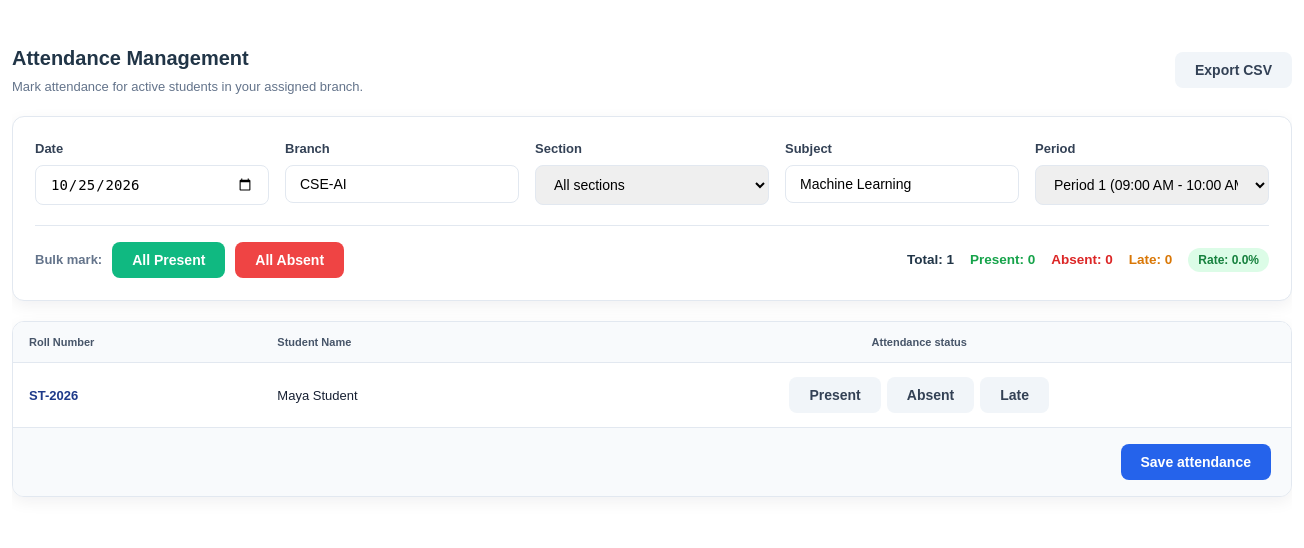
Test: attendance workflows › lets faculty mark and save attendance for the fetched roster
The image size is (1304, 548).
Check: the text "Maya Student" is shown, box [261, 363, 547, 427]
Check: the field labelled "Branch" holds "CSE-AI", box [285, 165, 519, 203]
Click the button "Present".
click(835, 395)  # box [789, 377, 881, 413]
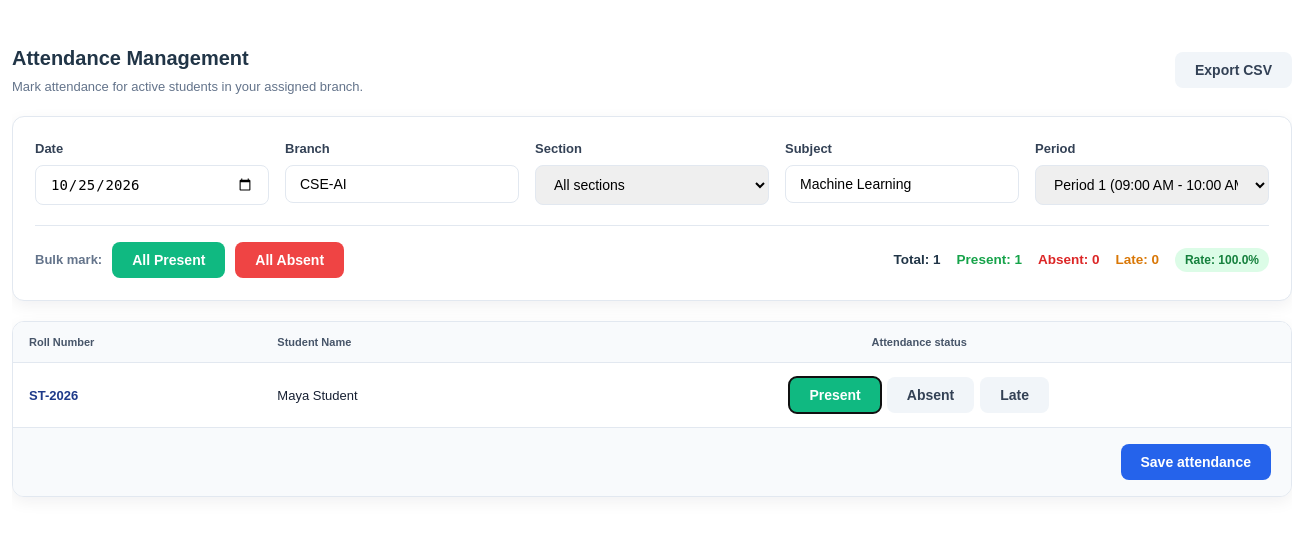
Click the button "Save attendance".
click(1196, 462)  # box [1120, 444, 1271, 480]
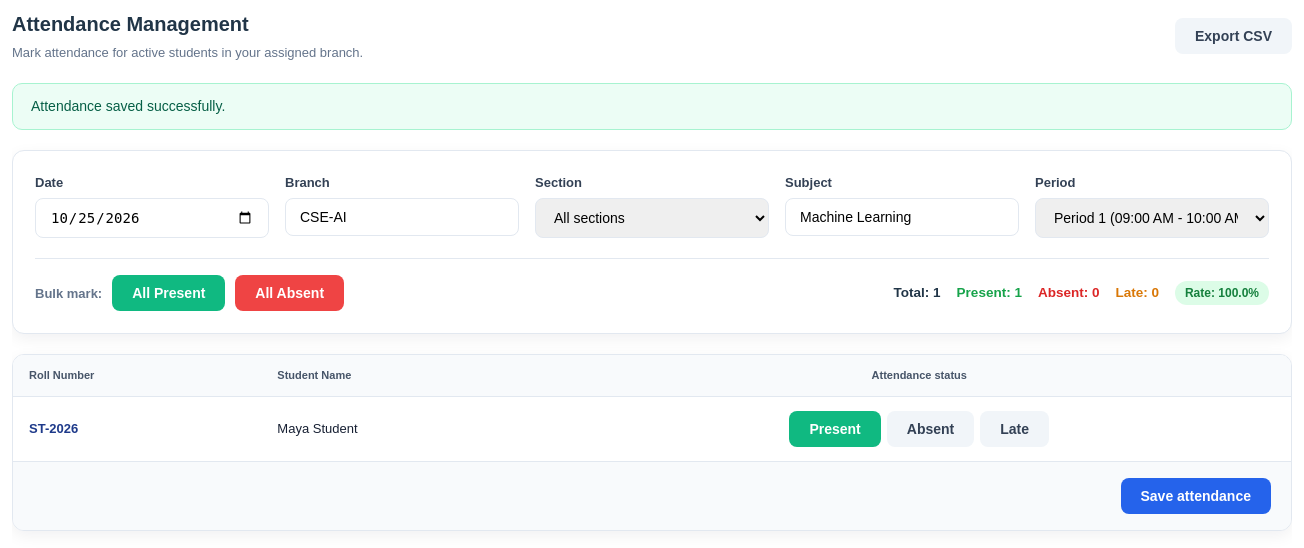
Check: the message "Attendance saved successfully." is shown, box [12, 83, 1292, 130]
